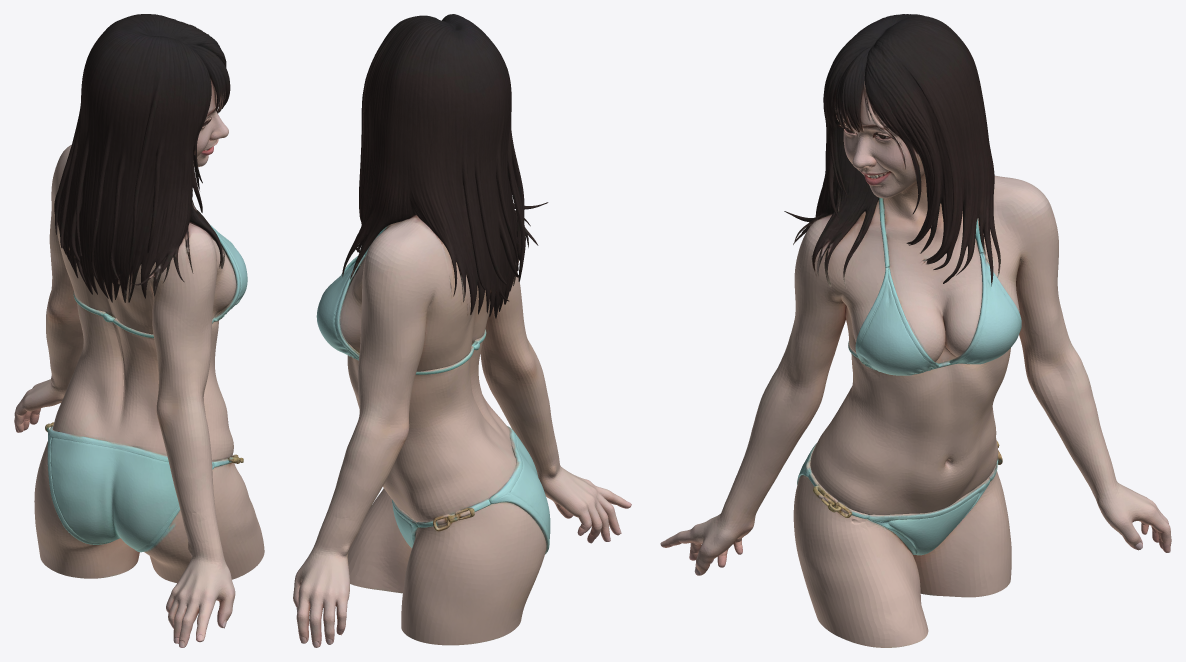
File: girl3.glb
3 renders of one model, left to right at view 1: azimuth 30°, elevation 25°; view 2: azimuth 150°, elevation 25°; view 3: azimuth 270°, elevation 25°, orthographic. The views are drawn at different scales.
Parts seen in each view (by area): view 1: tripo_node_c490a581-e5a0-46ff-b49b-fa88222c45bb; view 2: tripo_node_c490a581-e5a0-46ff-b49b-fa88222c45bb; view 3: tripo_node_c490a581-e5a0-46ff-b49b-fa88222c45bb.
Part boxes in pixels (x1,y1,x2,y2): tripo_node_c490a581-e5a0-46ff-b49b-fa88222c45bb: (14, 14, 264, 647); tripo_node_c490a581-e5a0-46ff-b49b-fa88222c45bb: (293, 14, 631, 647); tripo_node_c490a581-e5a0-46ff-b49b-fa88222c45bb: (660, 14, 1171, 647).
Size of the model in its own units: 0.3764 by 0.9786 by 0.789.
Materials: 1 (1 with a texture image).
